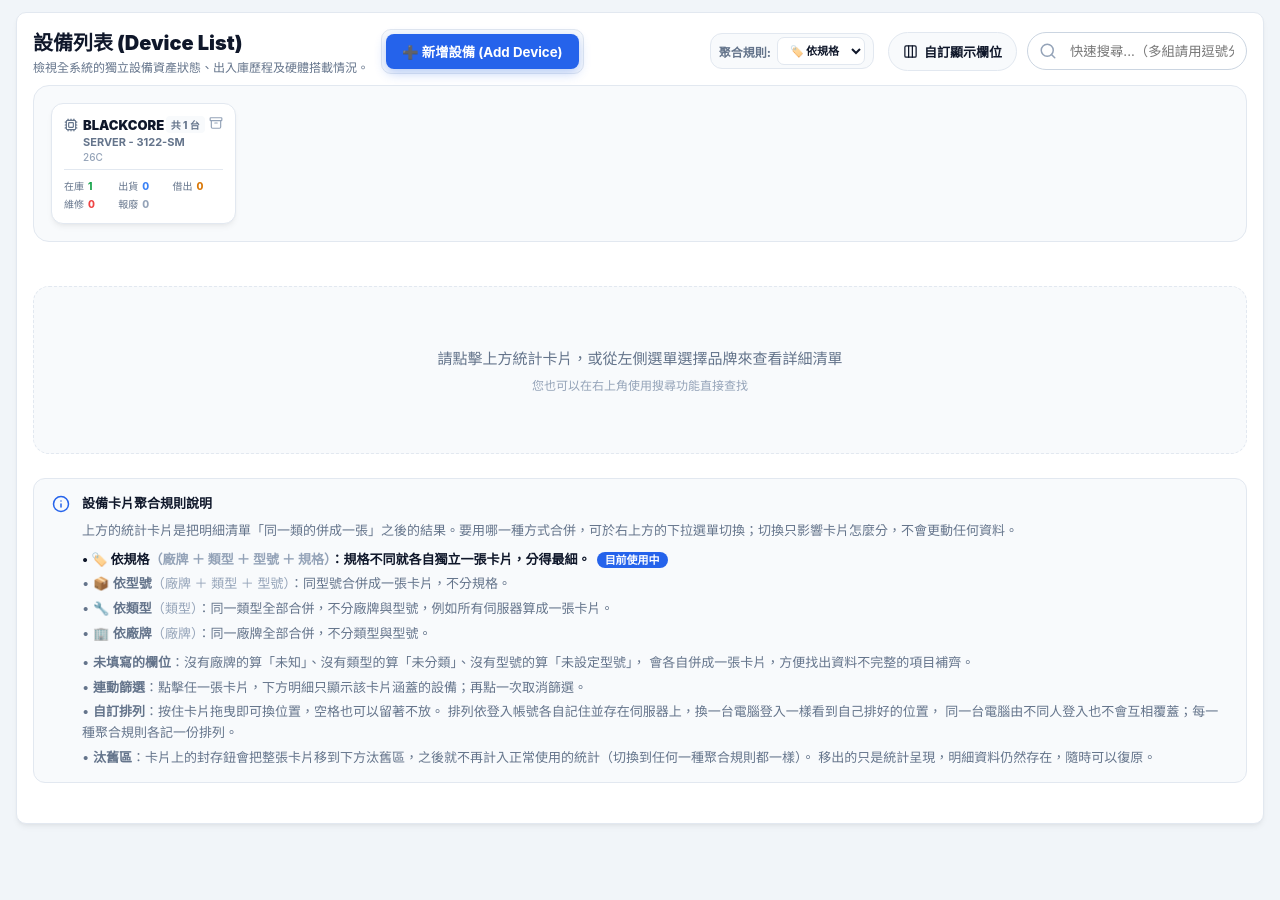
Test: 設備編輯：搭載硬體清單即時篩選 › 也可以用廠牌或類型篩選
The width and height of the screenshot is (1280, 900).
In the field with placeholder "快速搜尋...（多組請用逗號分隔）": (1137, 51) [1027,32,1247,70], type "DEV-1"
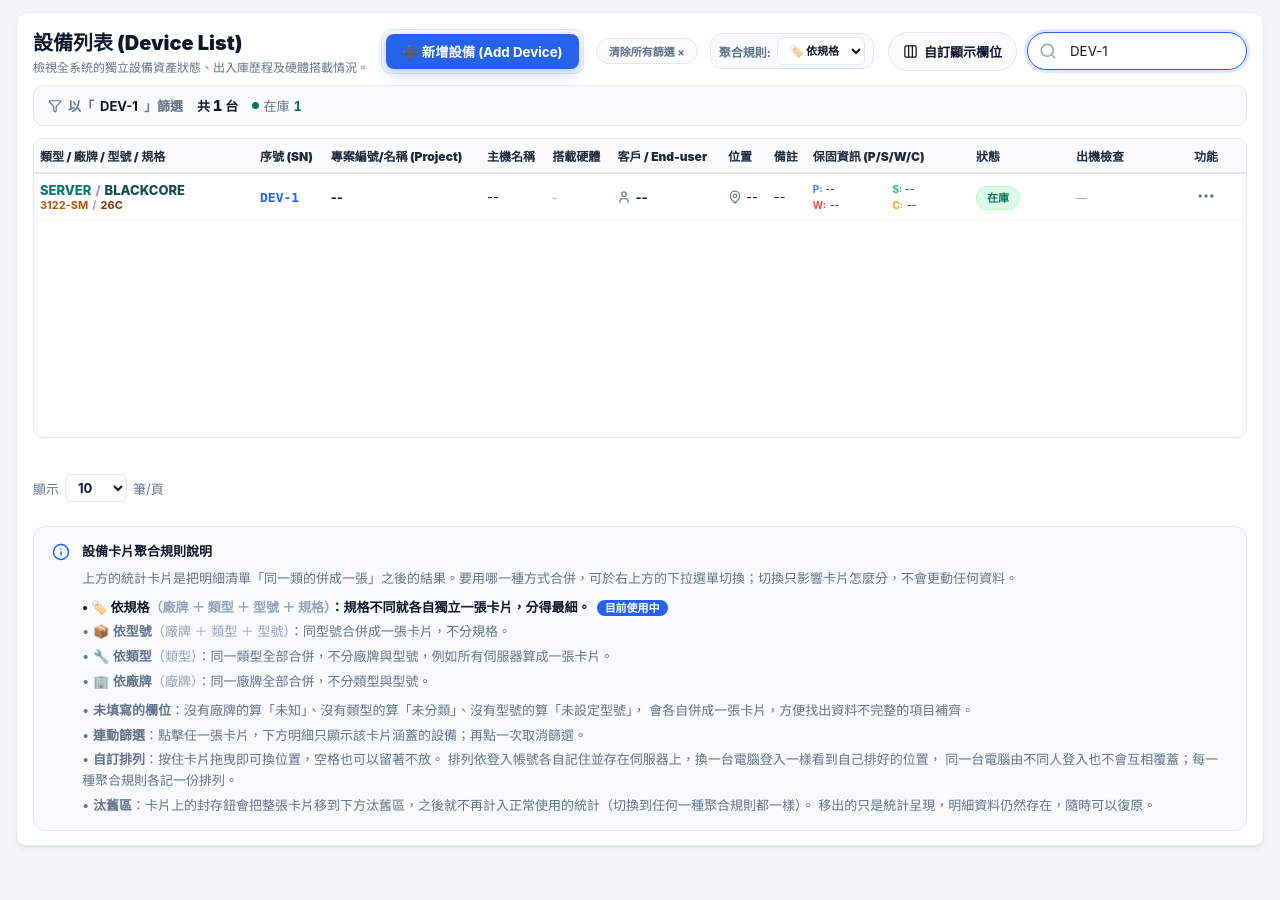
Expected: the text "DEV-1" is shown, [254,173,325,220]
Click the 4th button: click(1206, 197) [1196,186,1216,208]
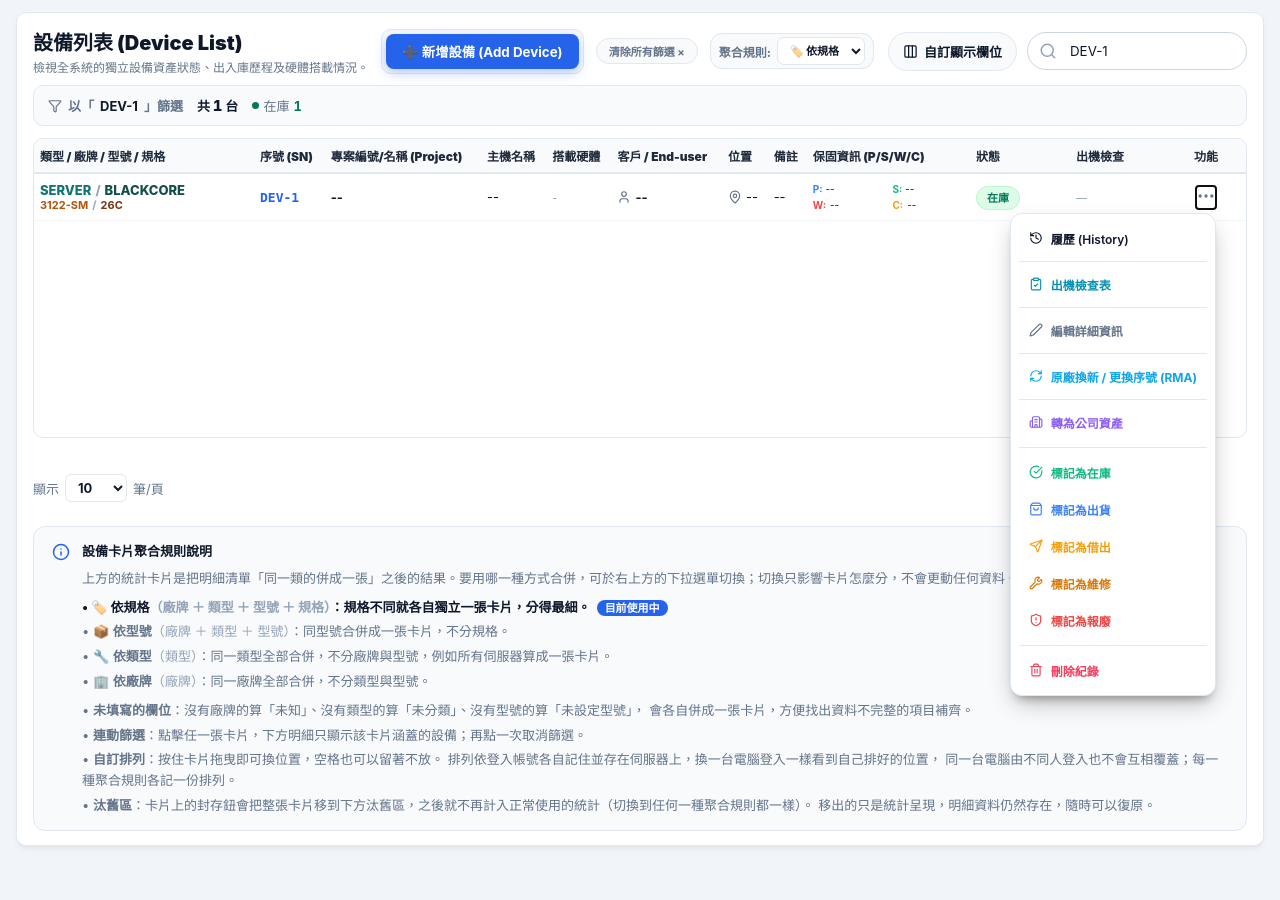
Click the button "編輯詳細資訊": click(1113, 330) [1019,314,1207,346]
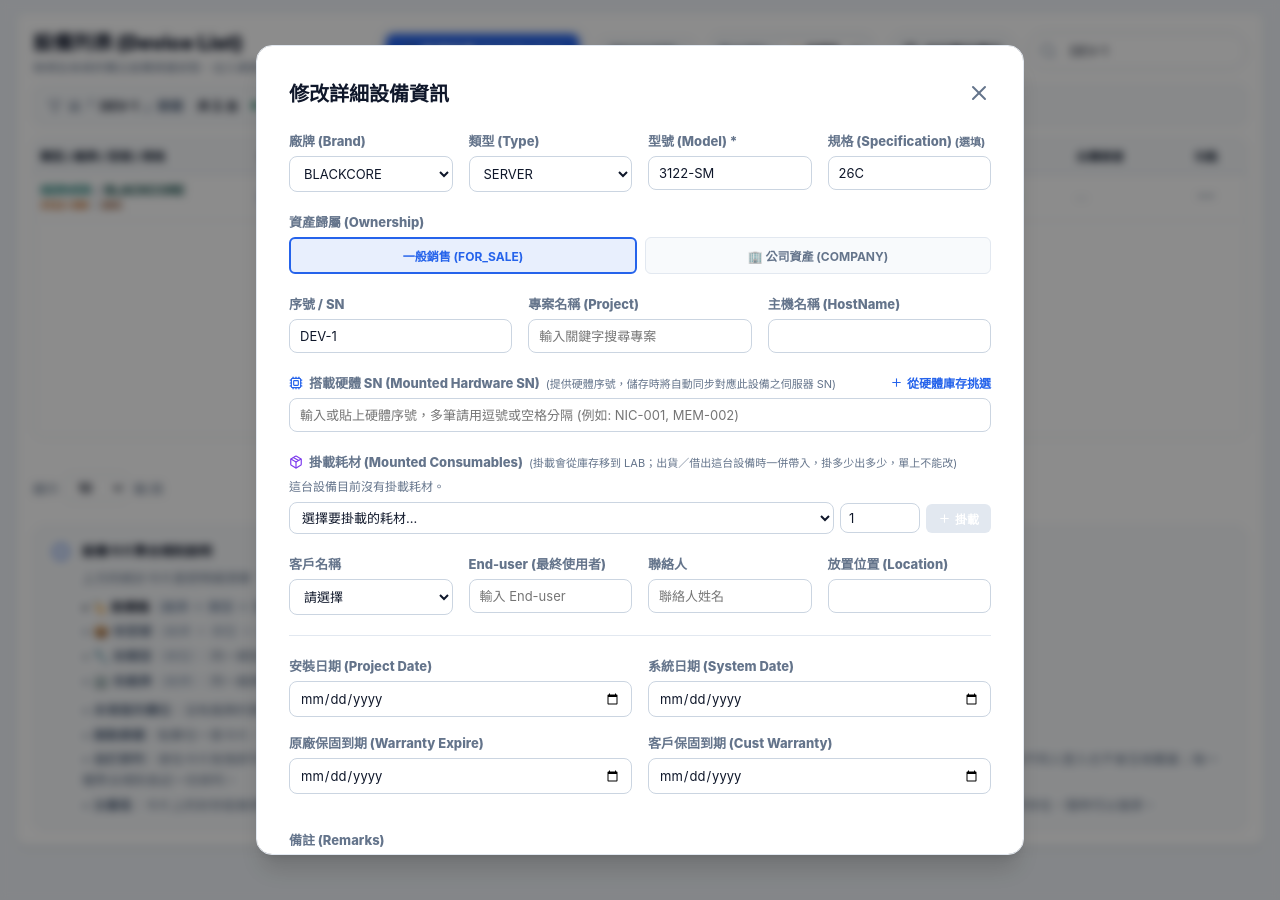
In the field with placeholder "輸入或貼上硬體序號，多筆請用逗號或空格分隔 (例如: NIC-001, MEM-002)": (640, 415) [289,398,991,432], type "v-color"
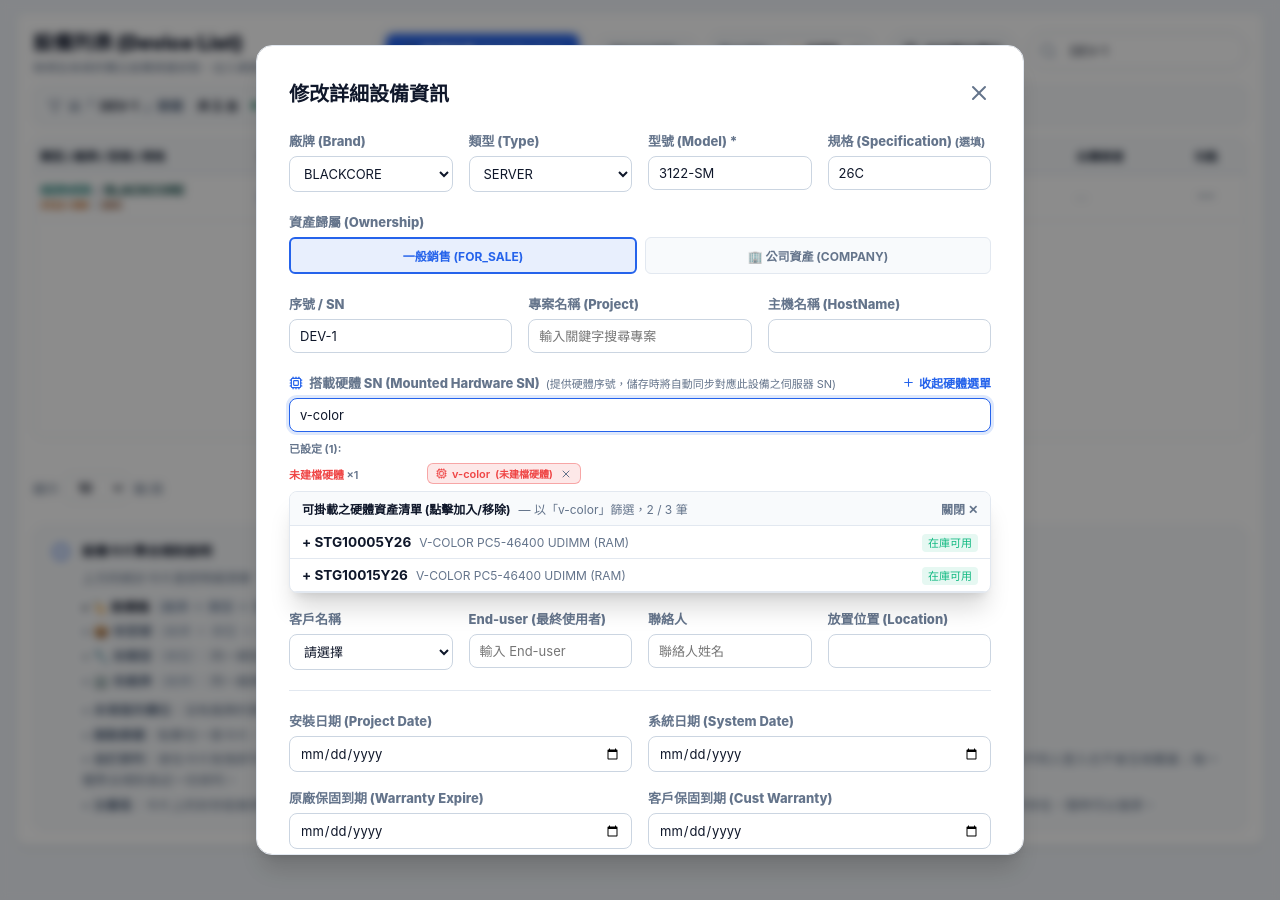
Expected: the text "+ STG10005Y26" is shown, [302,534,411,550]
Expected: the text "U5M16V5601255" is gone
